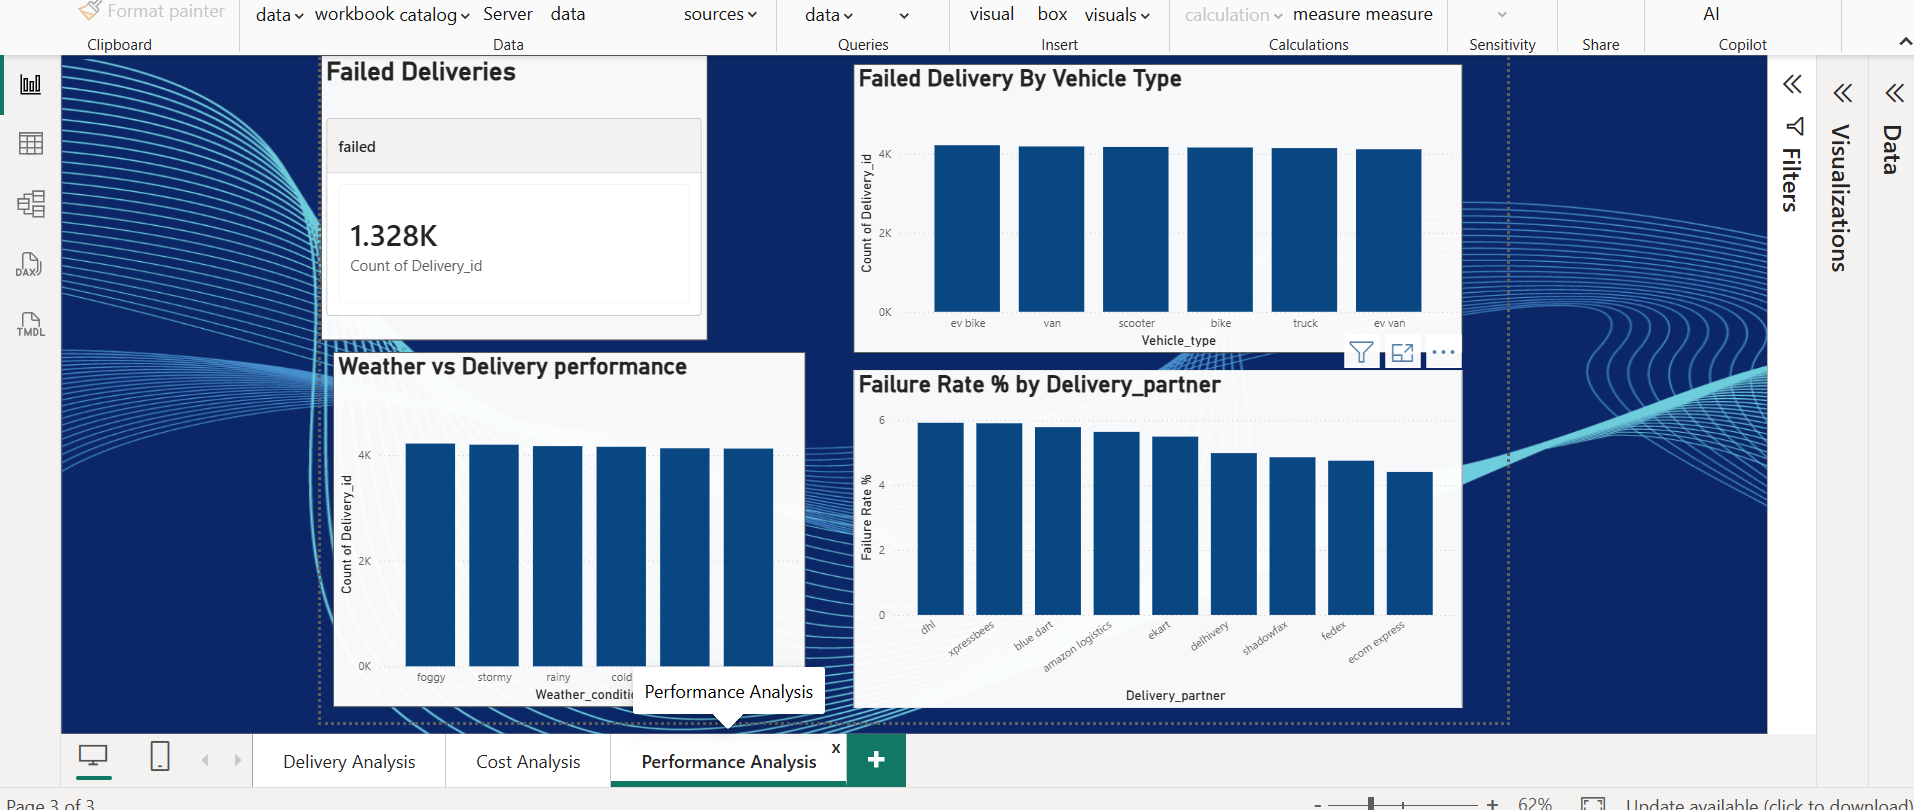

The dashboard page shown, as its layout file describes it:
{"tool":"powerbi","page":{"name":"Performance Analysis","canvas":[1280,720],"ordinal":2},"visuals":[{"type":"cardVisual","title":"Failed Deliveries","fields":{"Data":["CountNonNull(Delivery_Logistics.Delivery_id)"],"Rows":["Delivery_Logistics.Delivery_status"]},"box":[0,0,417.6,308],"z":0},{"type":"columnChart","title":"Weather vs Delivery performance","fields":{"Y":["CountNonNull(Delivery_Logistics.Delivery_id)"],"Category":["Delivery_Logistics.Weather_condition"]},"box":[13.2,321.3,510.2,383.6],"z":2},{"type":"clusteredColumnChart","title":"Failed Delivery By Vehicle Type","fields":{"Y":["CountNonNull(Delivery_Logistics.Delivery_id)"],"Category":["Delivery_Logistics.Vehicle_type"]},"box":[574.5,9.4,657.6,311.8],"z":3},{"type":"clusteredColumnChart","fields":{"Category":["Delivery_Logistics.Delivery_partner"],"Y":["Delivery_Logistics.Failure Rate %"]},"box":[574.5,340.2,657.6,364.7],"z":5}]}

Visuals, with their boxes on the page's 1280x720 design canvas (x1, y1, x2, y2). These are canvas units, not pixel positions in the 1914x810 screenshot, which may show the page scaled, cropped or inside an application window:
"Failed Deliveries" cardVisual: l=0, t=0, r=418, b=308
"Weather vs Delivery performance" columnChart: l=13, t=321, r=523, b=705
"Failed Delivery By Vehicle Type" clusteredColumnChart: l=574, t=9, r=1232, b=321
clusteredColumnChart - Delivery_Logistics.Delivery_partner x Delivery_Logistics.Failure Rate %: l=574, t=340, r=1232, b=705
